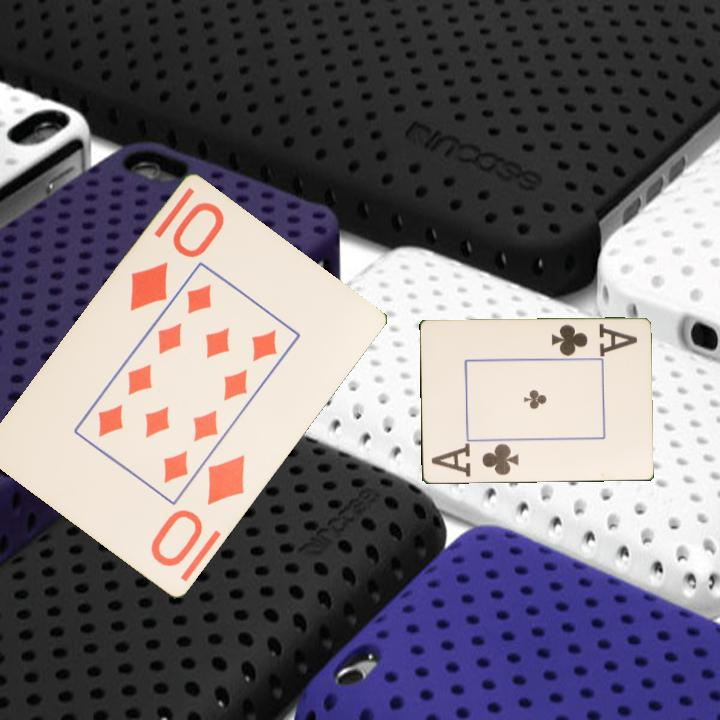10d: (147, 452, 249, 571), (126, 198, 228, 315)
Ac: (428, 441, 521, 481), (547, 320, 640, 359)
